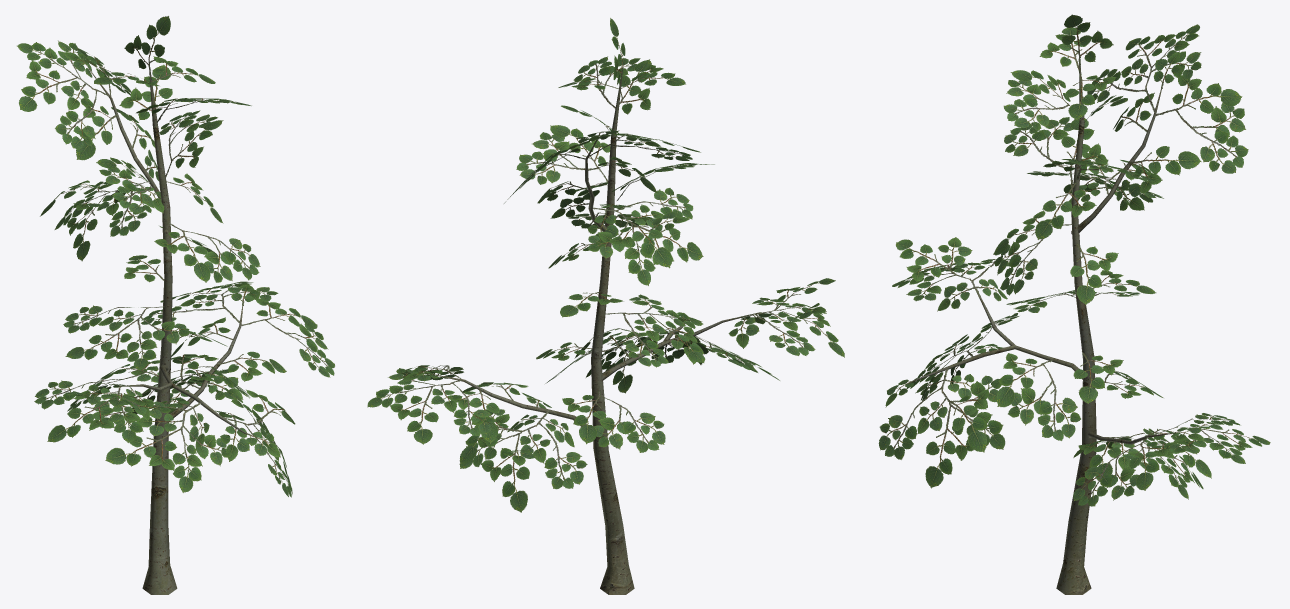
Rendered from aspen_tree_02.glb.
The picture shows the model from 3 angles, left to right: view 1: azimuth 30°, elevation 25°; view 2: azimuth 150°, elevation 25°; view 3: azimuth 270°, elevation 25°; orthographic projection.
Visible parts, largest first — view 1: aspen_tree_02; view 2: aspen_tree_02; view 3: aspen_tree_02.
Part boxes in pixels (x1,y1,x2,y2): aspen_tree_02: [17, 16, 334, 594]; aspen_tree_02: [367, 18, 844, 594]; aspen_tree_02: [878, 14, 1270, 594].
Bounding box in the file's own units: 3.84 × 5.7 × 3.55.
1 material, 1 textured.
